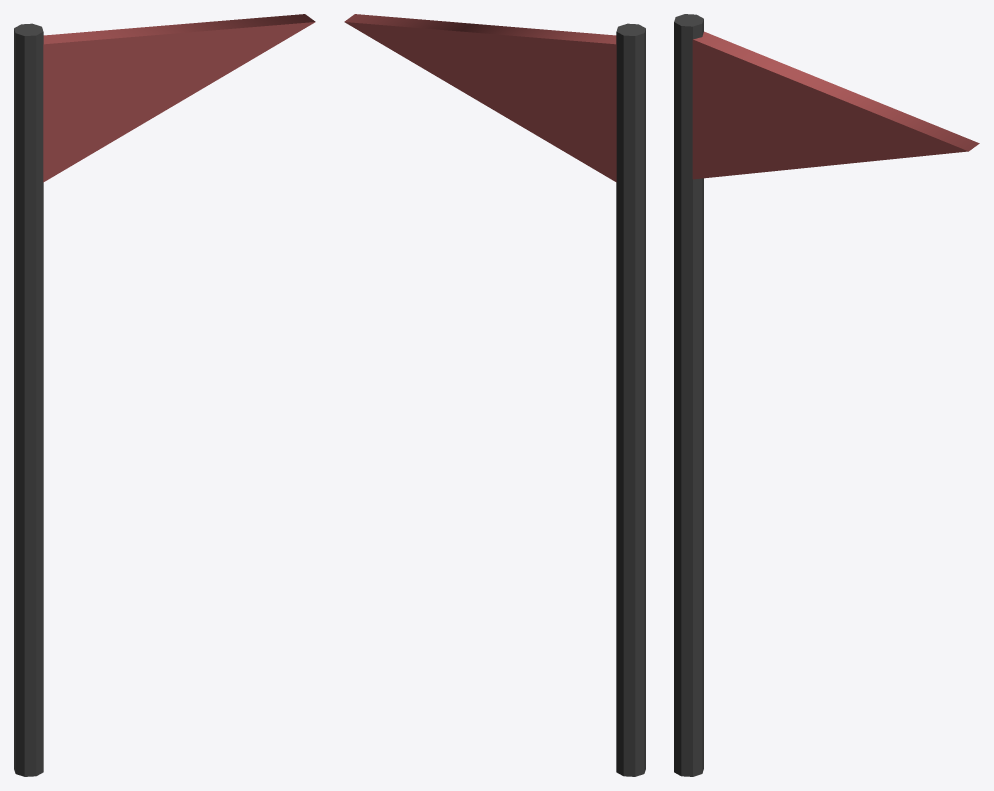
Rendered from snow_trampoline_flag.fbx.
The picture shows the model from 3 angles, left to right: view 1: azimuth 30°, elevation 25°; view 2: azimuth 150°, elevation 25°; view 3: azimuth 330°, elevation 25°; orthographic projection.
Parts seen in each view (by area): view 1: pCylinder1, pCube1; view 2: pCylinder1, pCube1; view 3: pCube1, pCylinder1.
Part boxes in pixels (left/top/right/bottom): pCylinder1: left=14, top=23, right=43, bottom=776; pCube1: left=43, top=14, right=315, bottom=182; pCylinder1: left=616, top=23, right=645, bottom=776; pCube1: left=344, top=14, right=616, bottom=182; pCube1: left=692, top=31, right=979, bottom=179; pCylinder1: left=674, top=14, right=703, bottom=776.
Bounding box in the file's own units: 2.14 × 5.14 × 0.1919.
